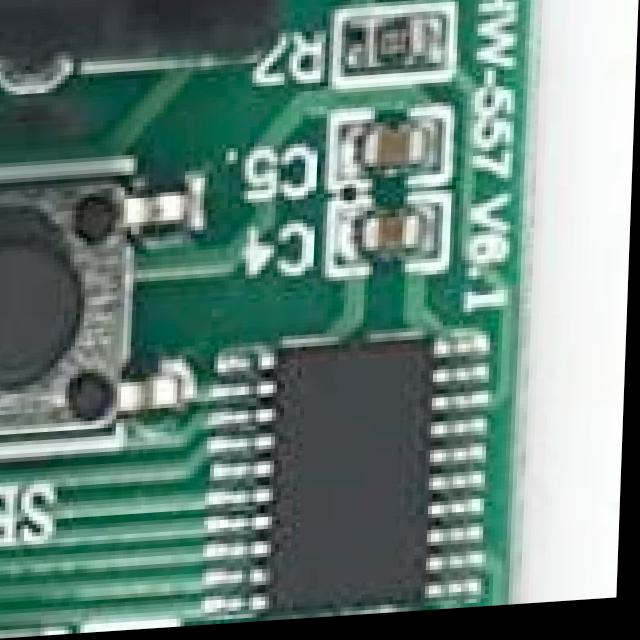IC: (221, 322, 478, 627)
capacitor: (360, 205, 433, 273), (354, 121, 440, 177)
display: (0, 614, 90, 640)
relay: (0, 0, 296, 76)
resistor: (365, 20, 451, 75)
switch: (0, 167, 167, 436)
